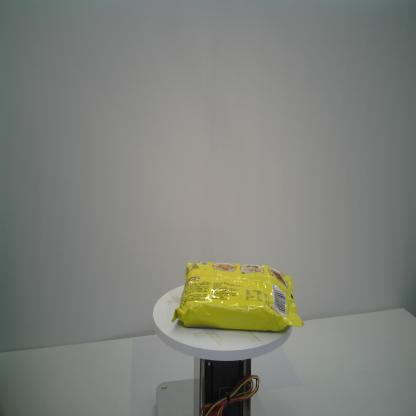Instant Noodles: (171, 260, 305, 332)
